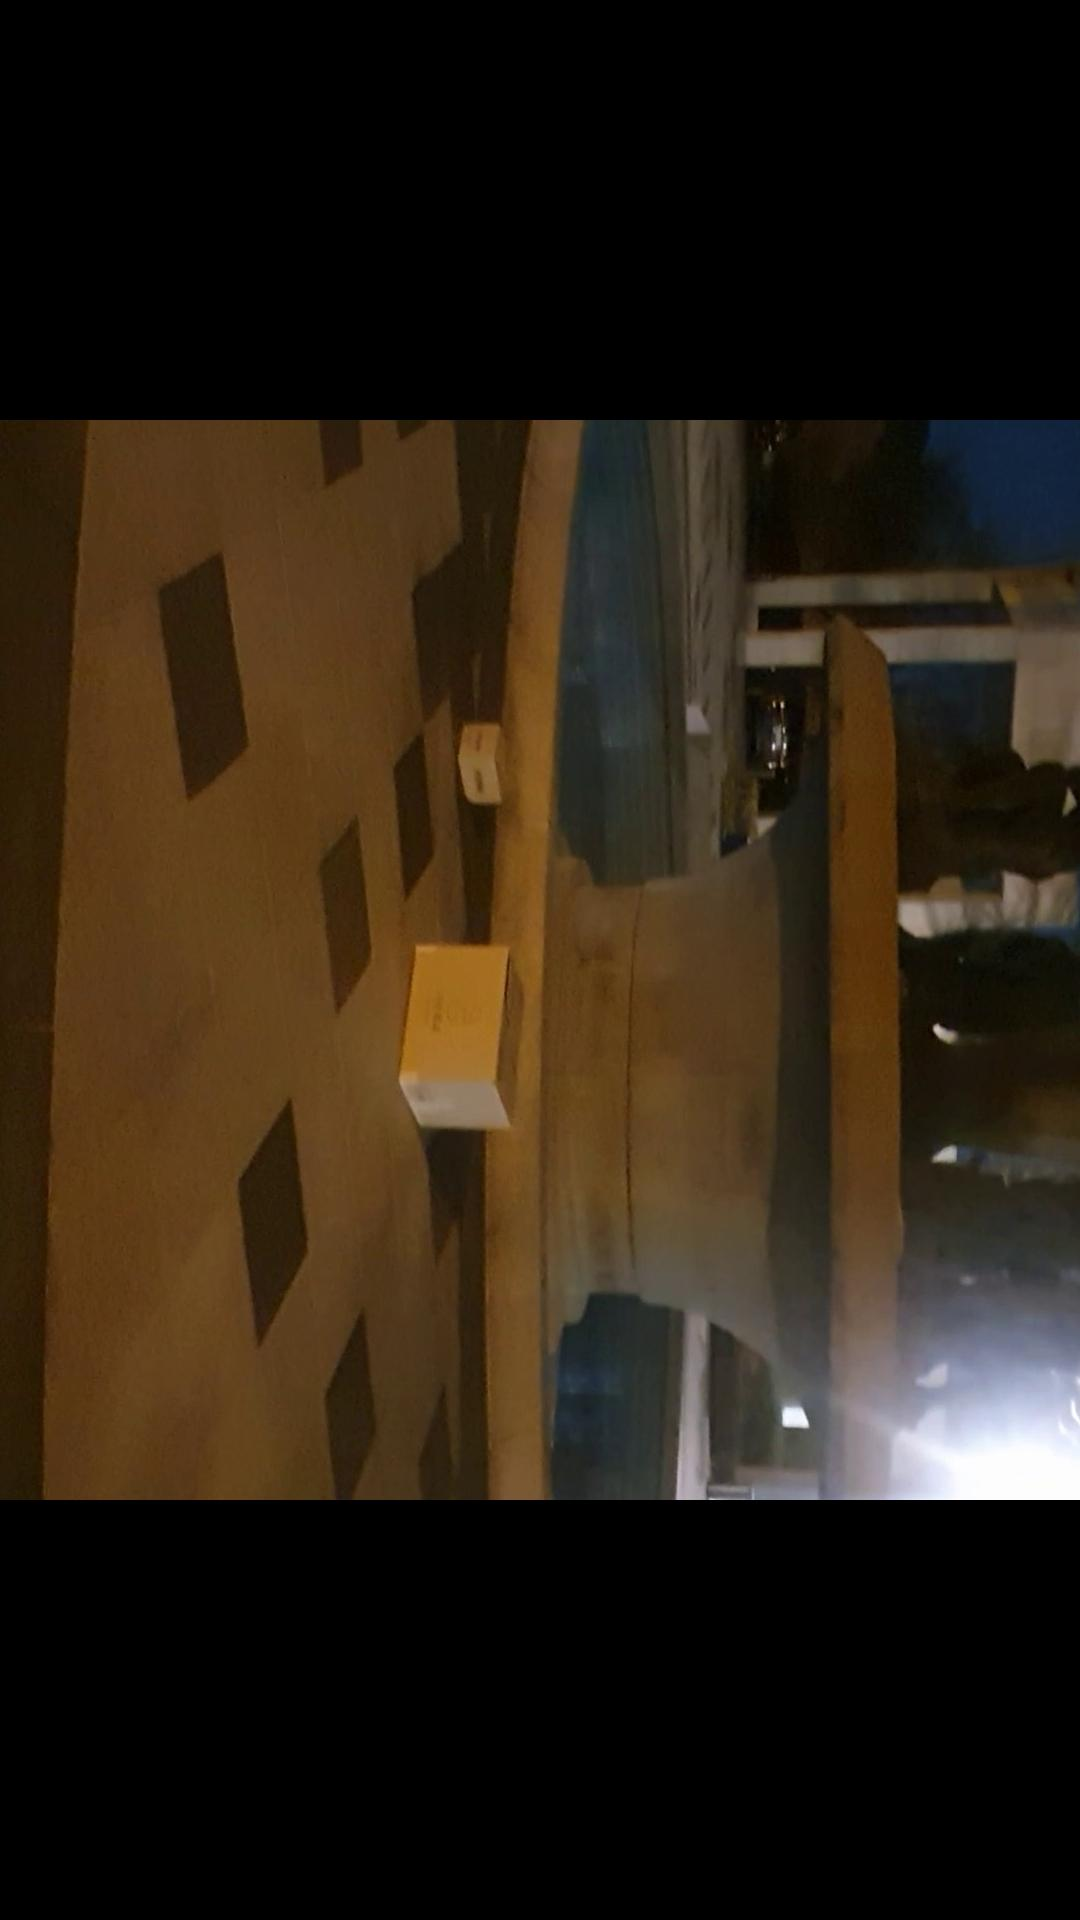Box: (388, 923, 541, 1145), (450, 713, 525, 812)
